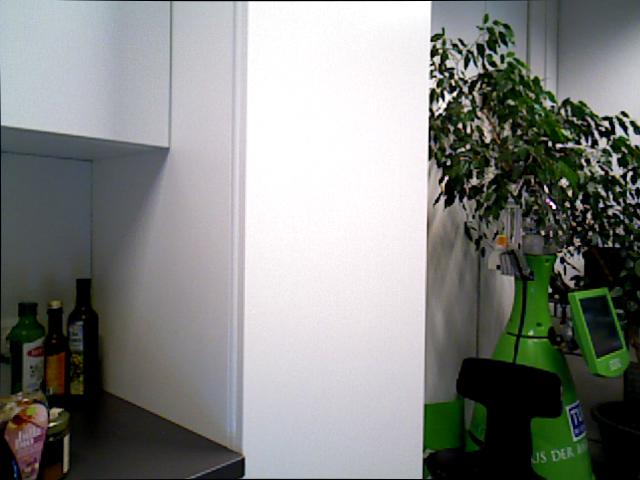bench: (65, 277, 99, 405), (0, 393, 50, 480), (8, 301, 45, 396), (43, 299, 68, 407)
carrot: (427, 12, 640, 376)
hot dog: (225, 0, 426, 480)
